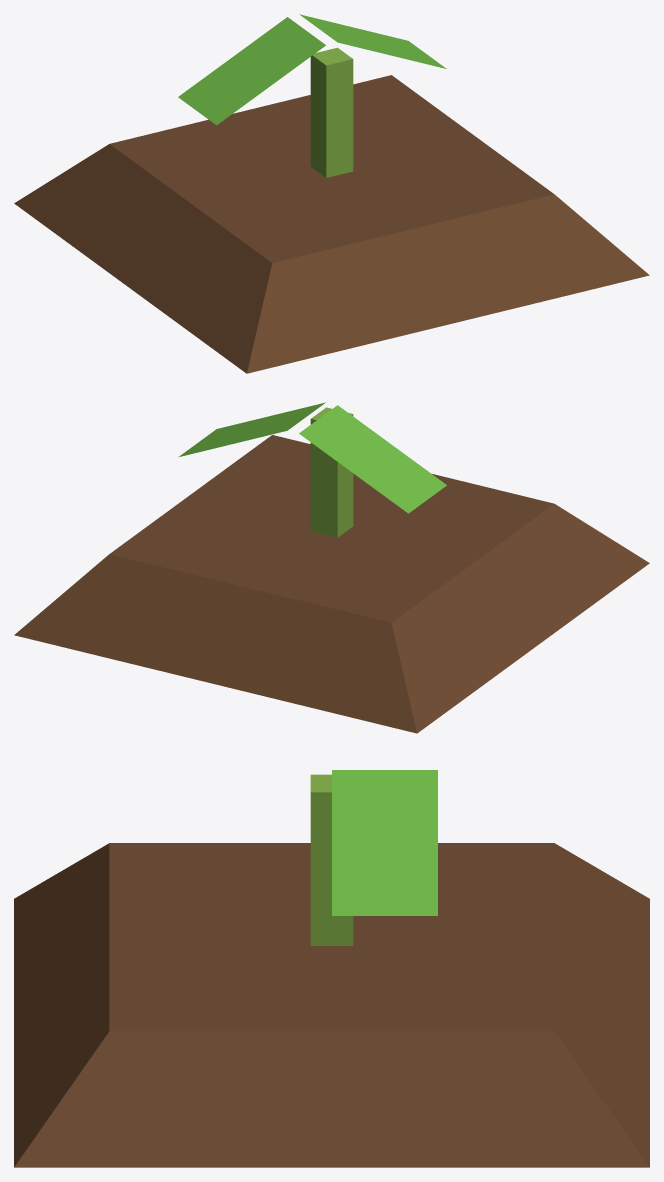
The model's file is corn_1.obj.
The picture shows the model from 3 angles, top to bottom: view 1: azimuth 30°, elevation 25°; view 2: azimuth 150°, elevation 25°; view 3: azimuth 270°, elevation 25°; orthographic projection. The views are drawn at different scales.
Visible parts, largest first — view 1: plant; view 2: plant; view 3: plant.
Boxes of the visible parts, left/top/right/bottom form: plant: left=14, top=14, right=649, bottom=373; plant: left=14, top=402, right=649, bottom=733; plant: left=14, top=770, right=649, bottom=1167.
Size of the model in its own units: 0.3 by 0.139 by 0.3.
